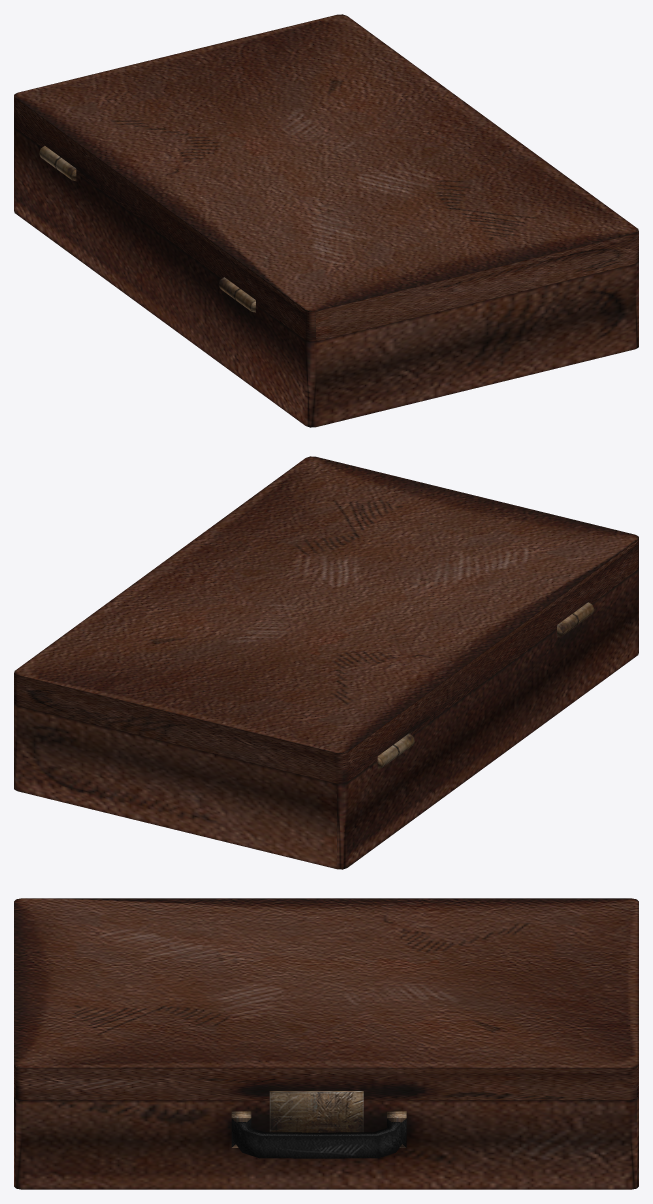
Rendered from suitCase.fbx.
3 renders of one model, top to bottom at view 1: azimuth 30°, elevation 25°; view 2: azimuth 150°, elevation 25°; view 3: azimuth 270°, elevation 25°, orthographic. The views are drawn at different scales.
Parts seen in each view (by area): view 1: couvercle, corp; view 2: couvercle, corp; view 3: couvercle, corp.
Boxes of the visible parts, x1,y1,x2,y2 form: couvercle: [14, 14, 638, 342]; corp: [14, 126, 638, 427]; couvercle: [14, 456, 638, 784]; corp: [14, 568, 638, 869]; couvercle: [14, 898, 638, 1100]; corp: [14, 1091, 638, 1189].
Bounding box in the file's own units: 63.03 × 18.35 × 85.57.
